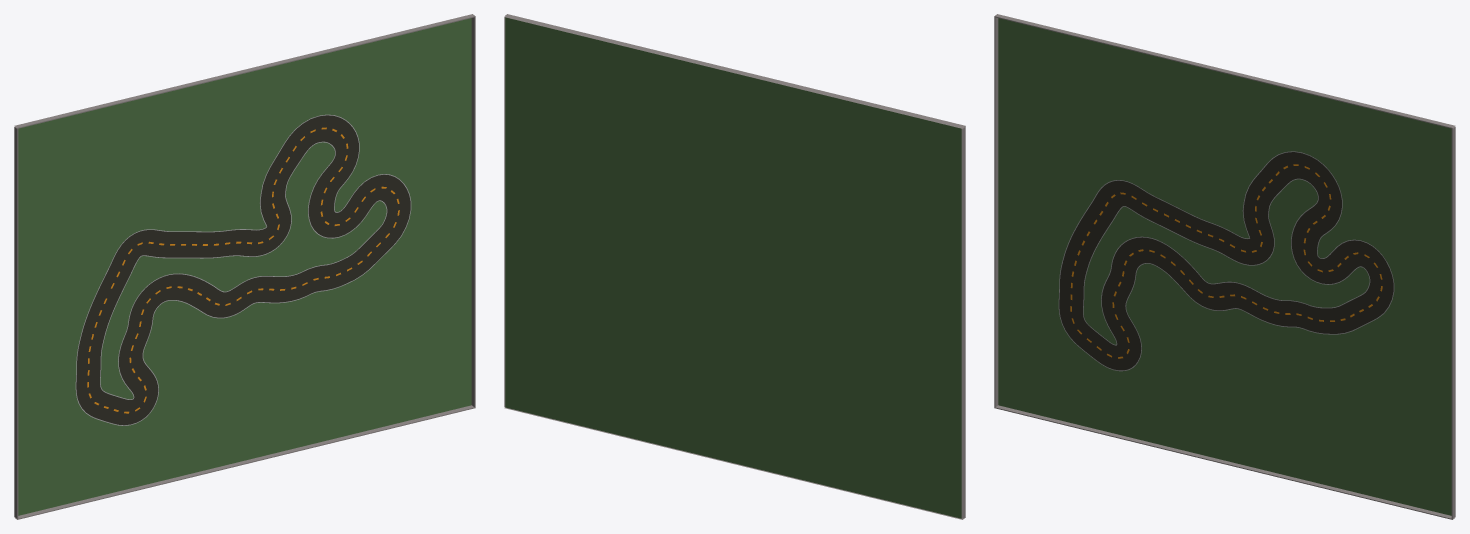
Rendered from track.obj.
The picture shows the model from 3 angles, left to right: view 1: azimuth 30°, elevation 25°; view 2: azimuth 150°, elevation 25°; view 3: azimuth 330°, elevation 25°; orthographic projection.
Bounding box in the file's own units: 26.46 × 21.63 × 0.3.
